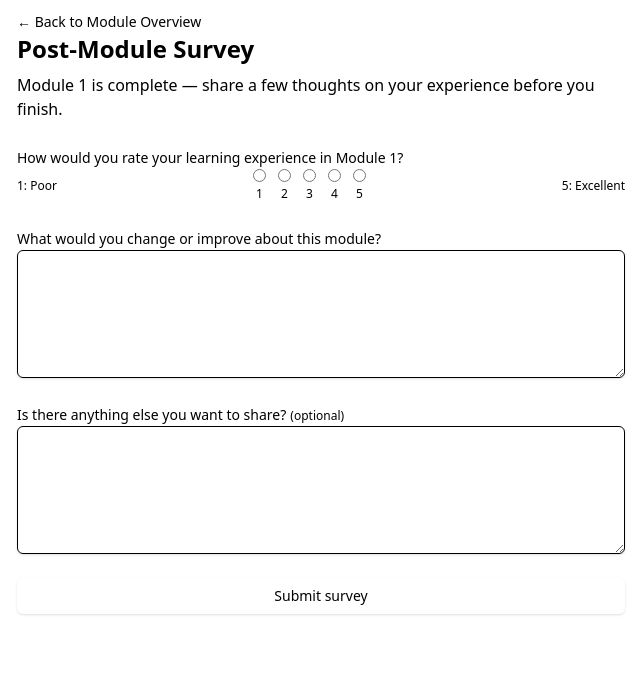
SurveyPage › maps a 422 server validation error as a backstop when it survives client-side validation
The image size is (643, 676).
Check: the heading "Post-Module Survey" is shown, box [17,32,254,65]
Step 1. Click the radio button labelled "5" → x=359, y=176, box [353,169,366,182]
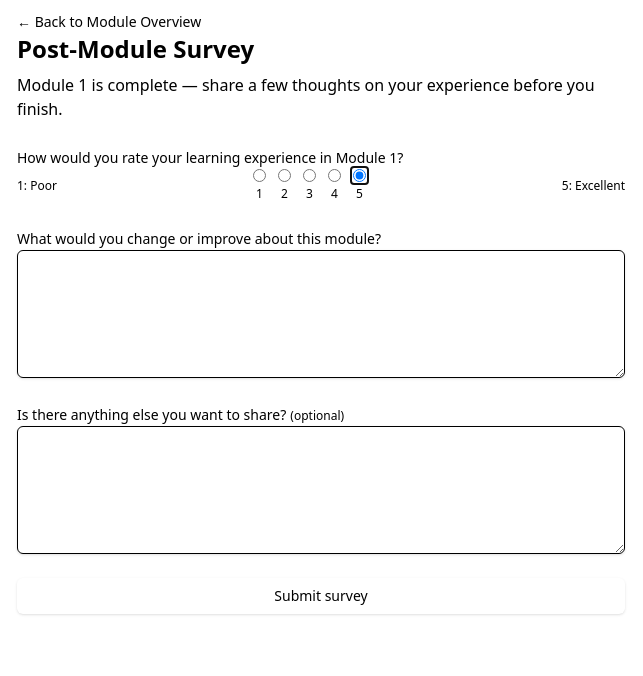
Step 2. Type "More real-world case studies would help." into the text box labelled "What would you change or improve about this module?" → x=321, y=314, box [17,250,625,378]
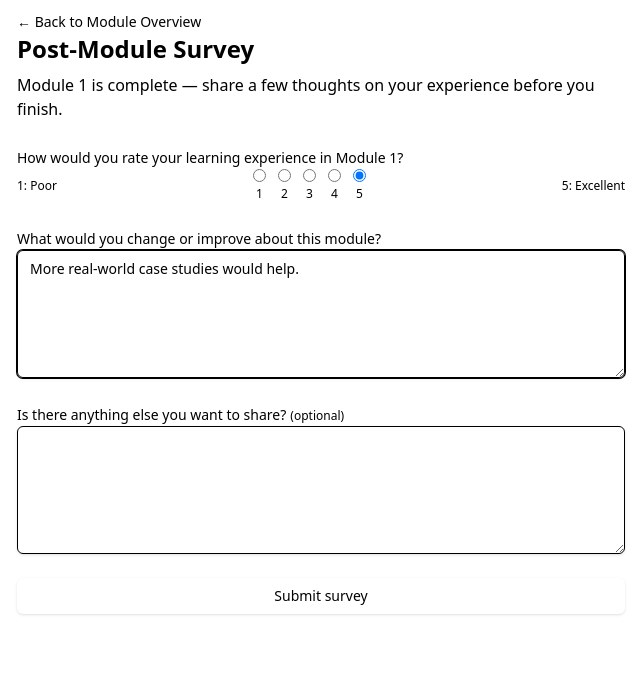
Step 3. Click the button "Submit survey" → x=321, y=596, box [17,578,625,614]
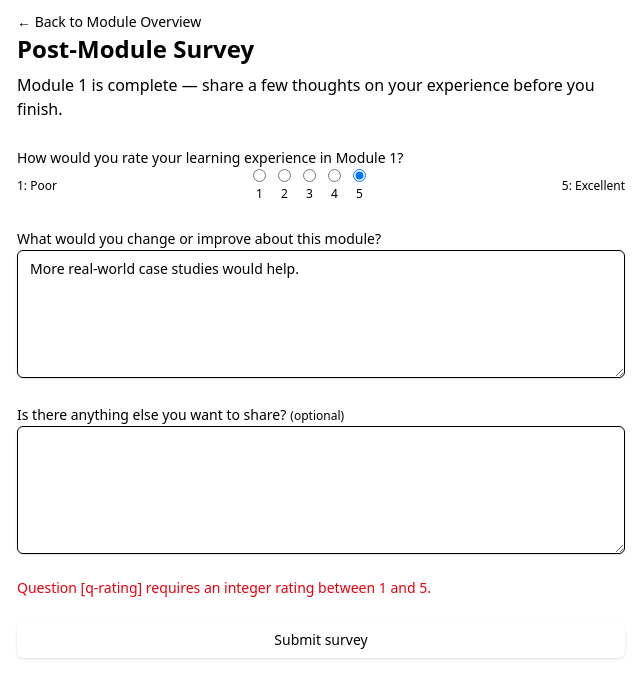
Check: the text "Question [q-rating] requires an integer rating between 1 and 5." is shown, box [17,578,431,597]
